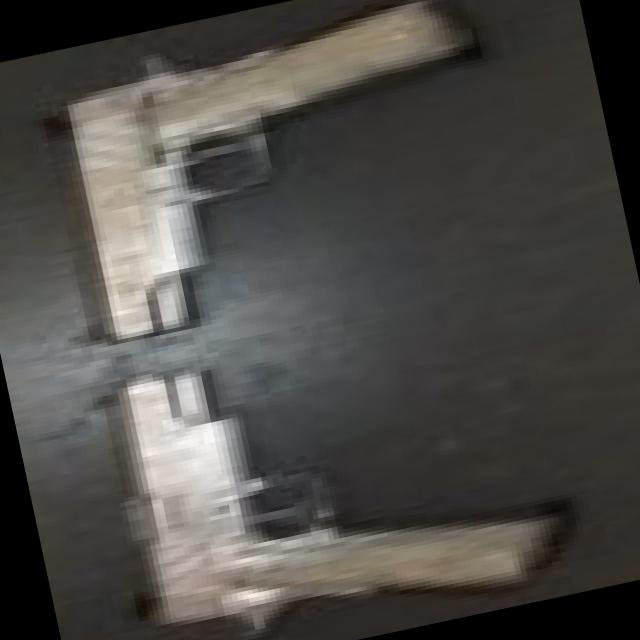handgun: (2, 0, 530, 356), (62, 296, 572, 639)
